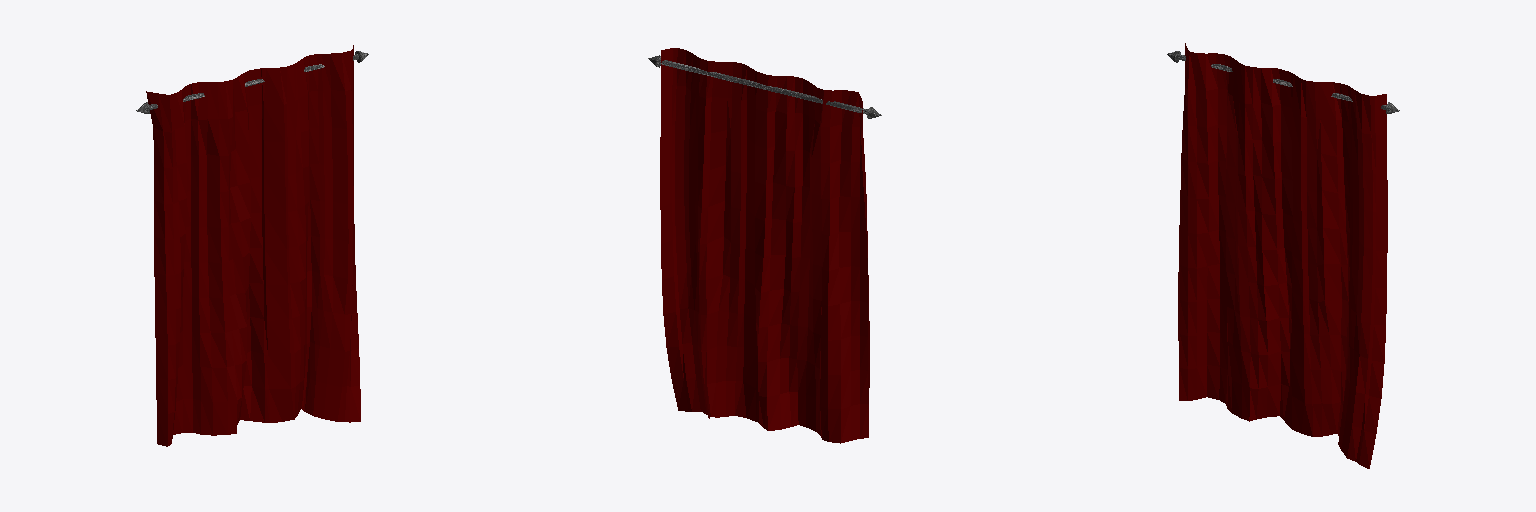
3 views of the same model, side by side, from view 1: azimuth 30°, elevation 25°; view 2: azimuth 150°, elevation 25°; view 3: azimuth 330°, elevation 25° (orthographic).
Parts seen in each view (by area): view 1: carpet, metal_handle; view 2: carpet, metal_handle; view 3: carpet, metal_handle.
Boxes of the visible parts, box(x1,y1,x2,y2) form: carpet: box(146, 45, 360, 446); metal_handle: box(136, 51, 368, 113); carpet: box(660, 48, 869, 443); metal_handle: box(648, 55, 881, 118); carpet: box(1178, 43, 1387, 468); metal_handle: box(1167, 51, 1399, 113).
Bounding box in the file's own units: 20.04 × 30.11 × 2.29.
2 materials, 1 textured.